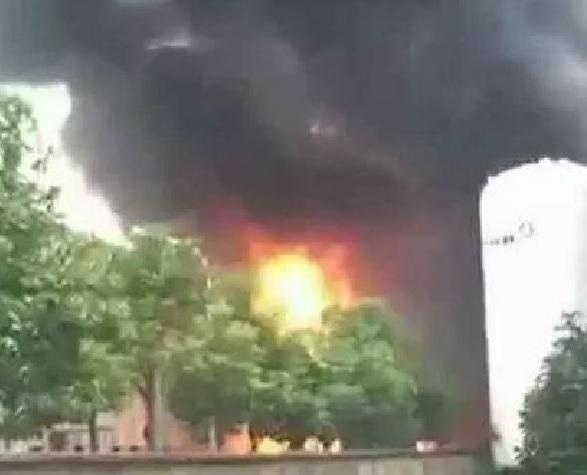fire: (252, 246, 336, 326)
